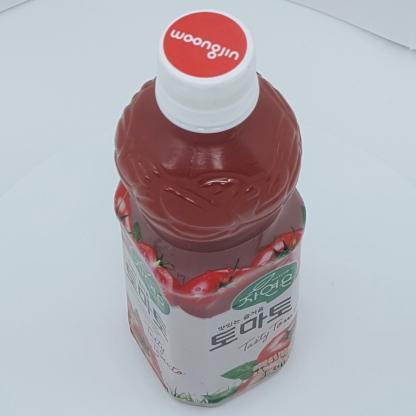--------500ML: (113, 8, 306, 408)
